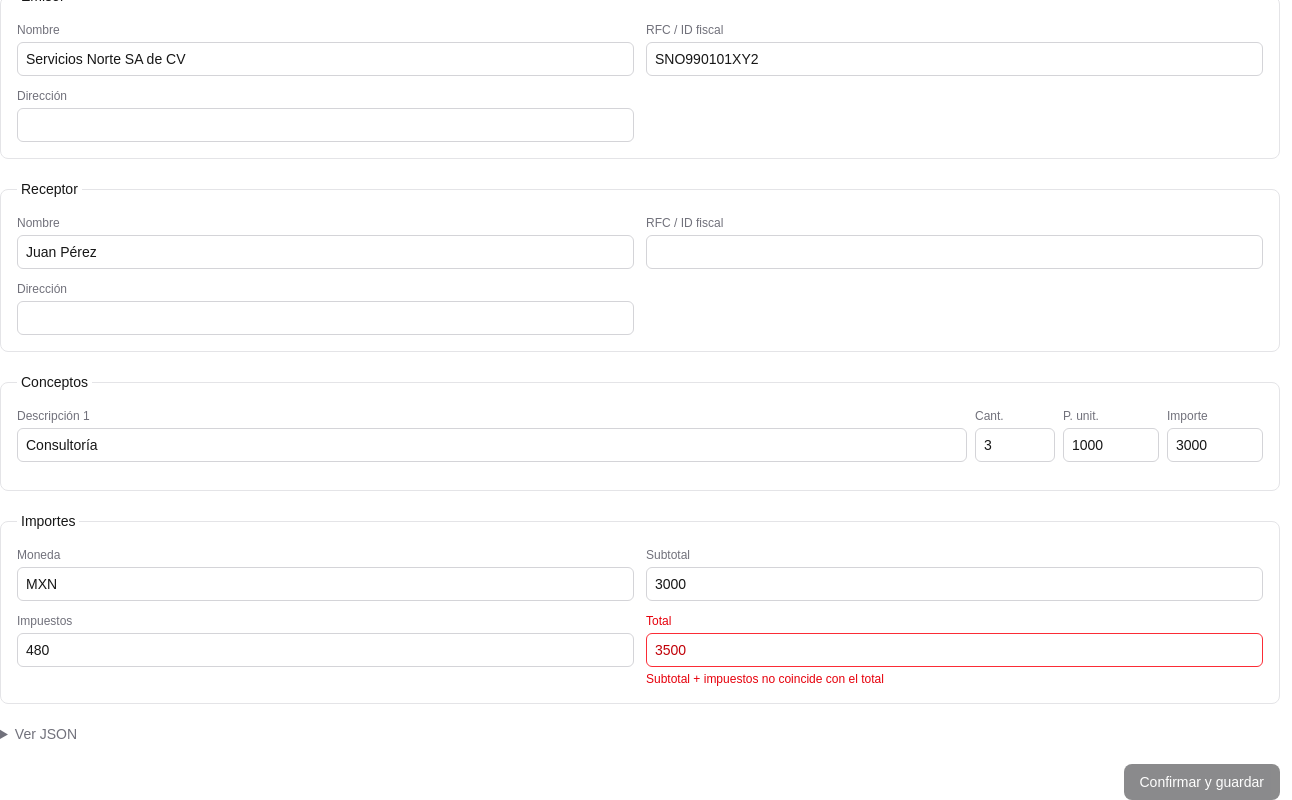
DocumentForm › totales que no cuadran: total en rojo hasta corregirlo
(page scrolled)
Step 1. Replace the text in the number field labelled "Total" with "3480" → (954, 650), box [646,633,1263,667]
(page scrolled)
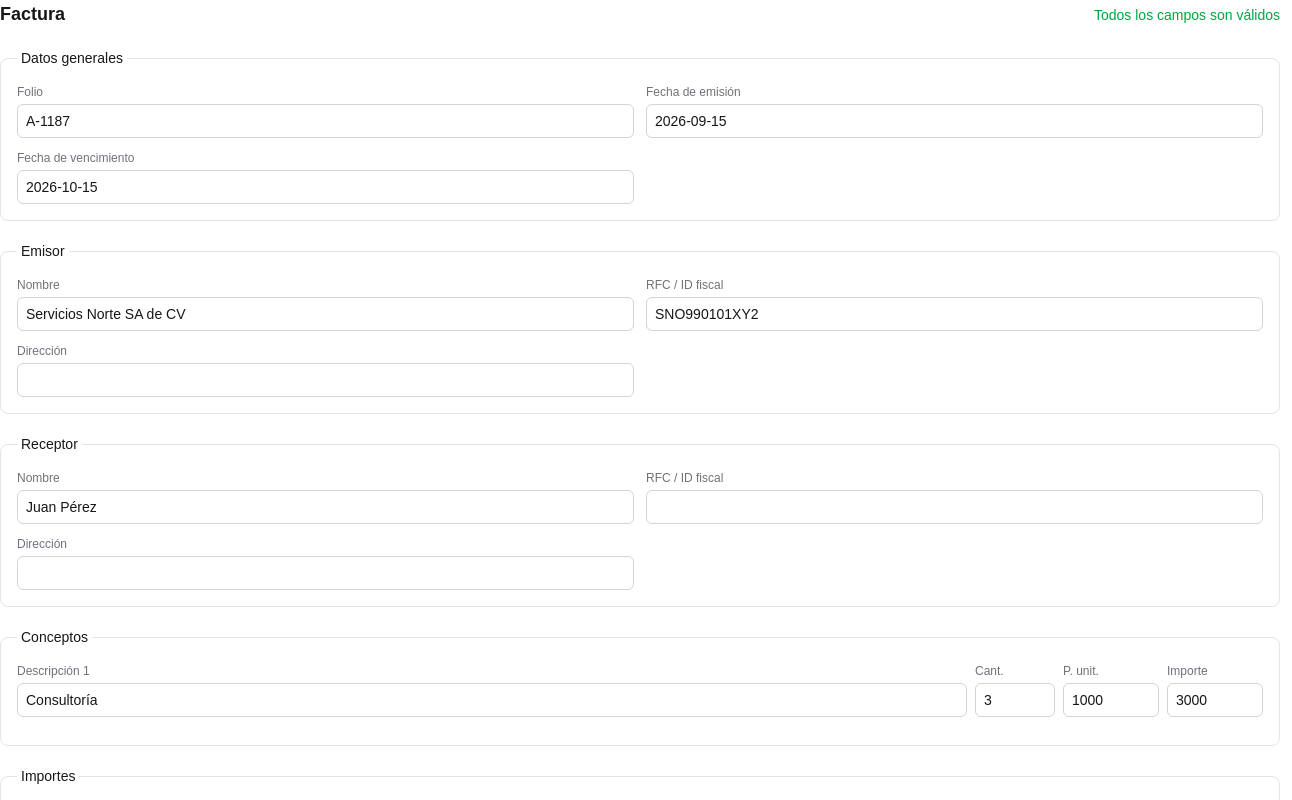
Expected: the text "Todos los campos son válidos" is shown, [1094,5,1280,25]
